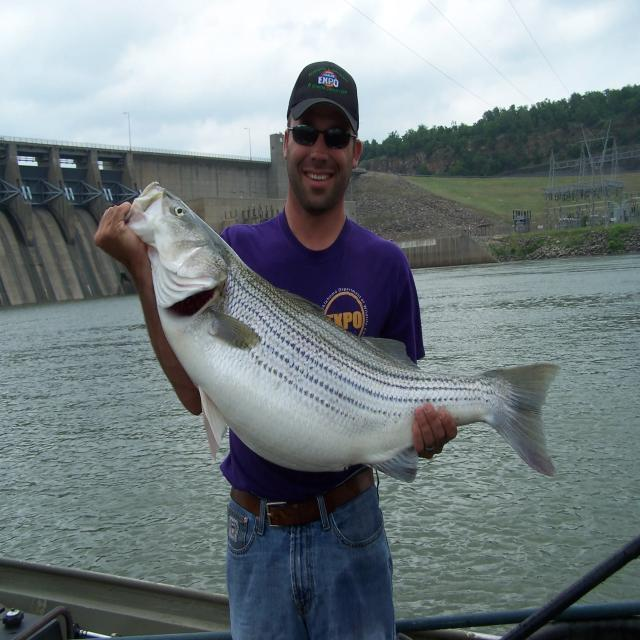Bass - Striped: (128, 183, 558, 482)
